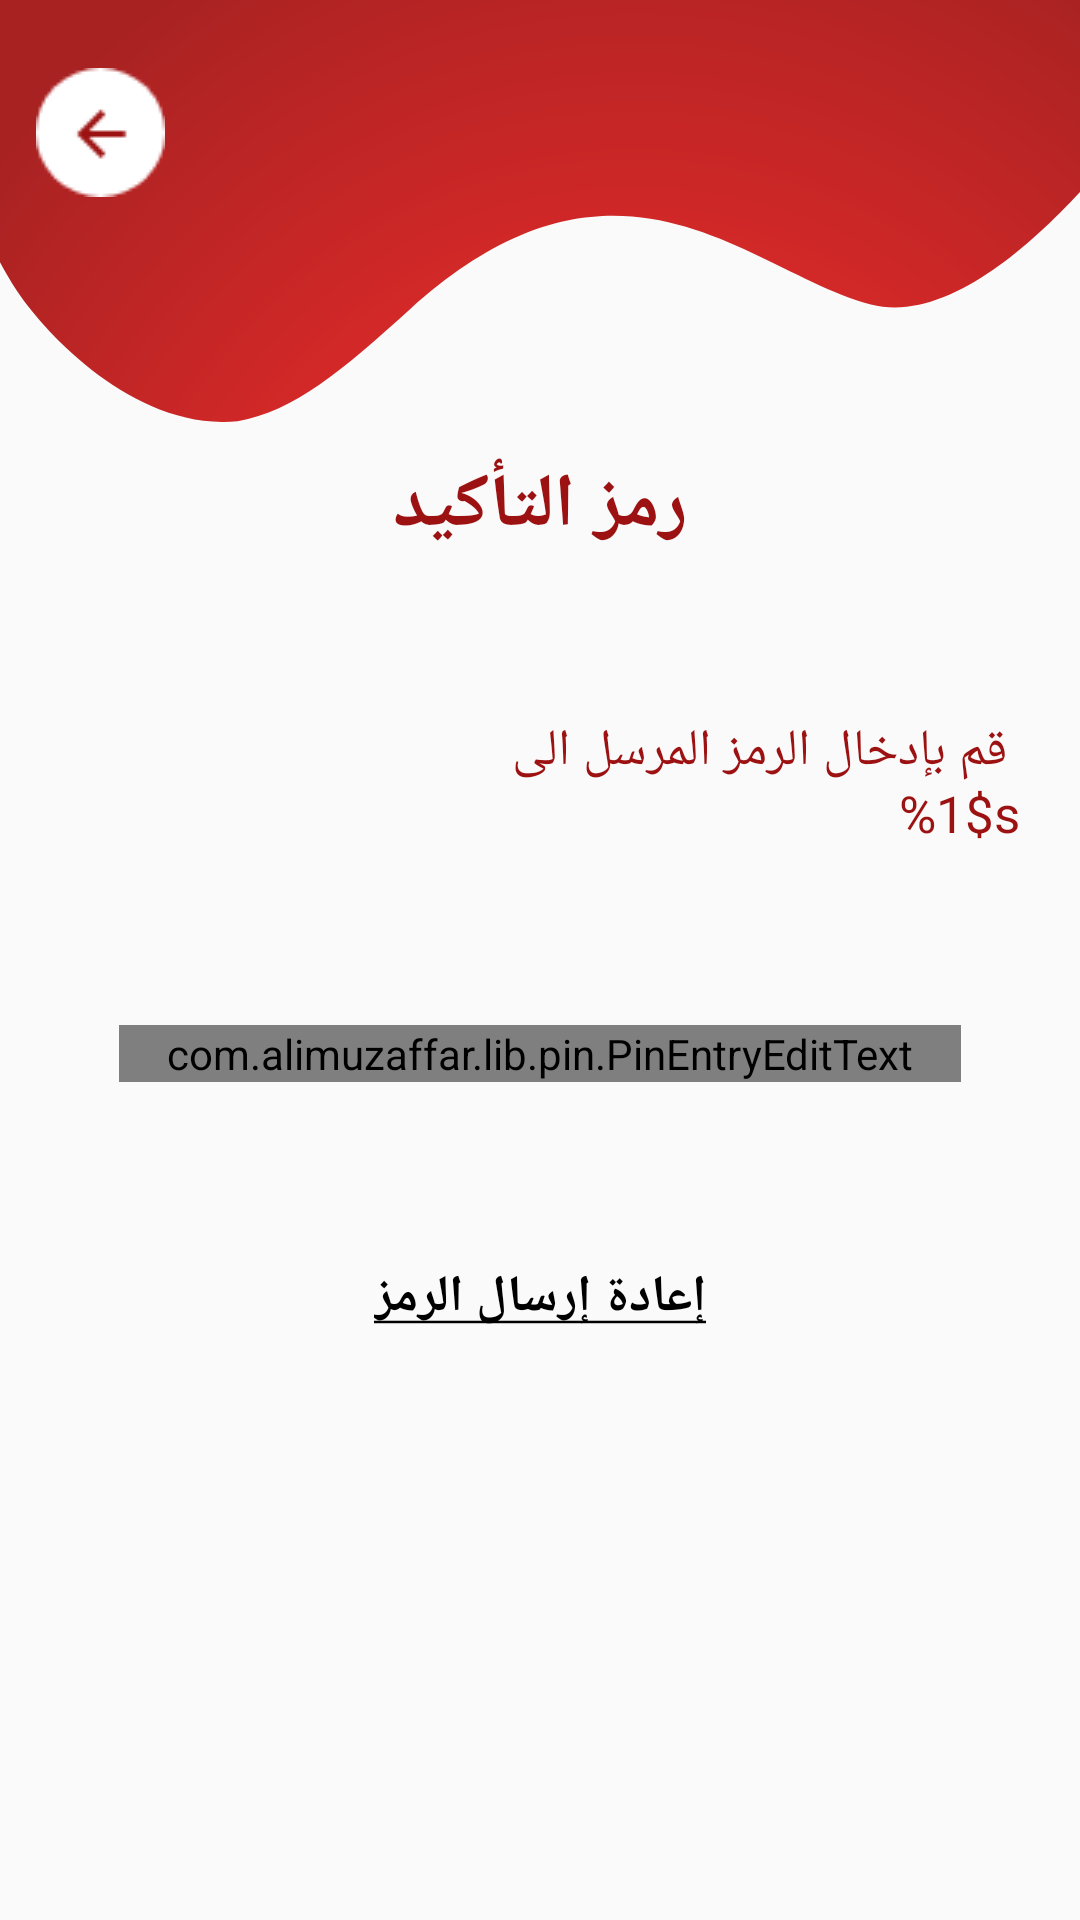

Screen size 1080*1920. Icon name, then its box in pixels as (x1, y1, x2, y2):
back oval: (36, 68, 165, 197)
